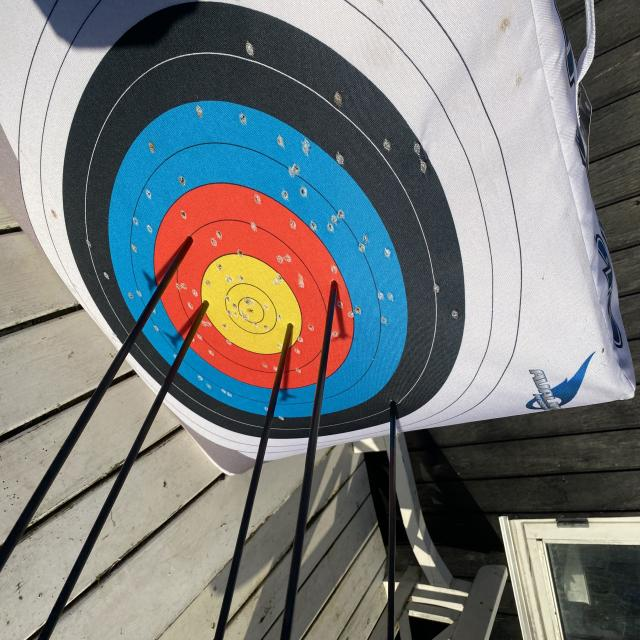Arrow_Black: (384, 388, 408, 428)
Arrow_Red: (319, 271, 347, 304), (180, 221, 198, 259)
Arrow_Yellow: (186, 292, 224, 321), (280, 315, 300, 339)
